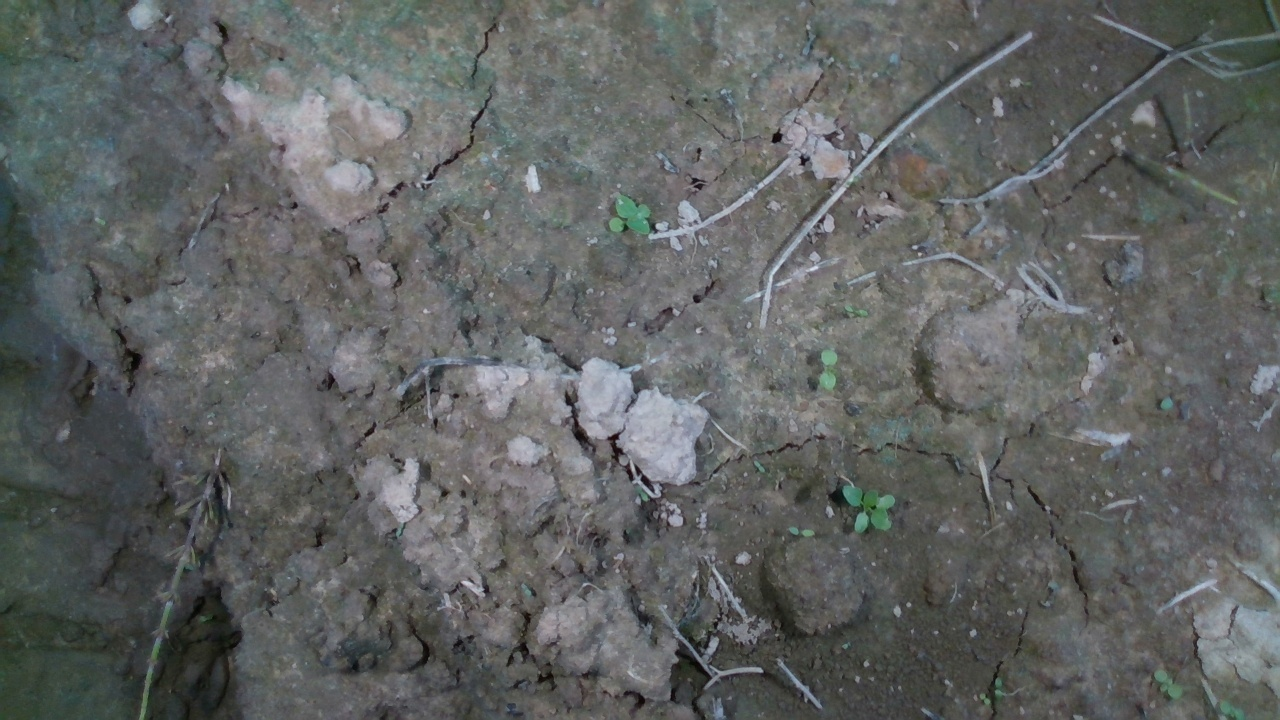weed: (841, 484, 895, 534), (606, 193, 652, 235), (1153, 668, 1183, 700), (820, 347, 838, 391), (843, 303, 869, 318), (786, 525, 817, 537)
